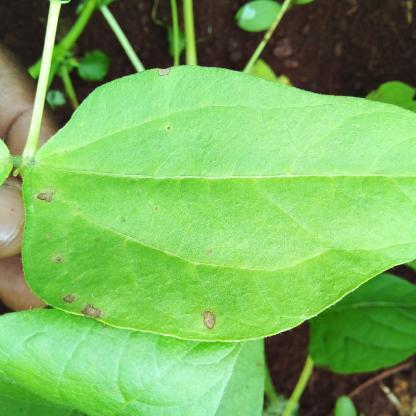Beans_Angular_LeafSpot: (22, 68, 416, 338)
